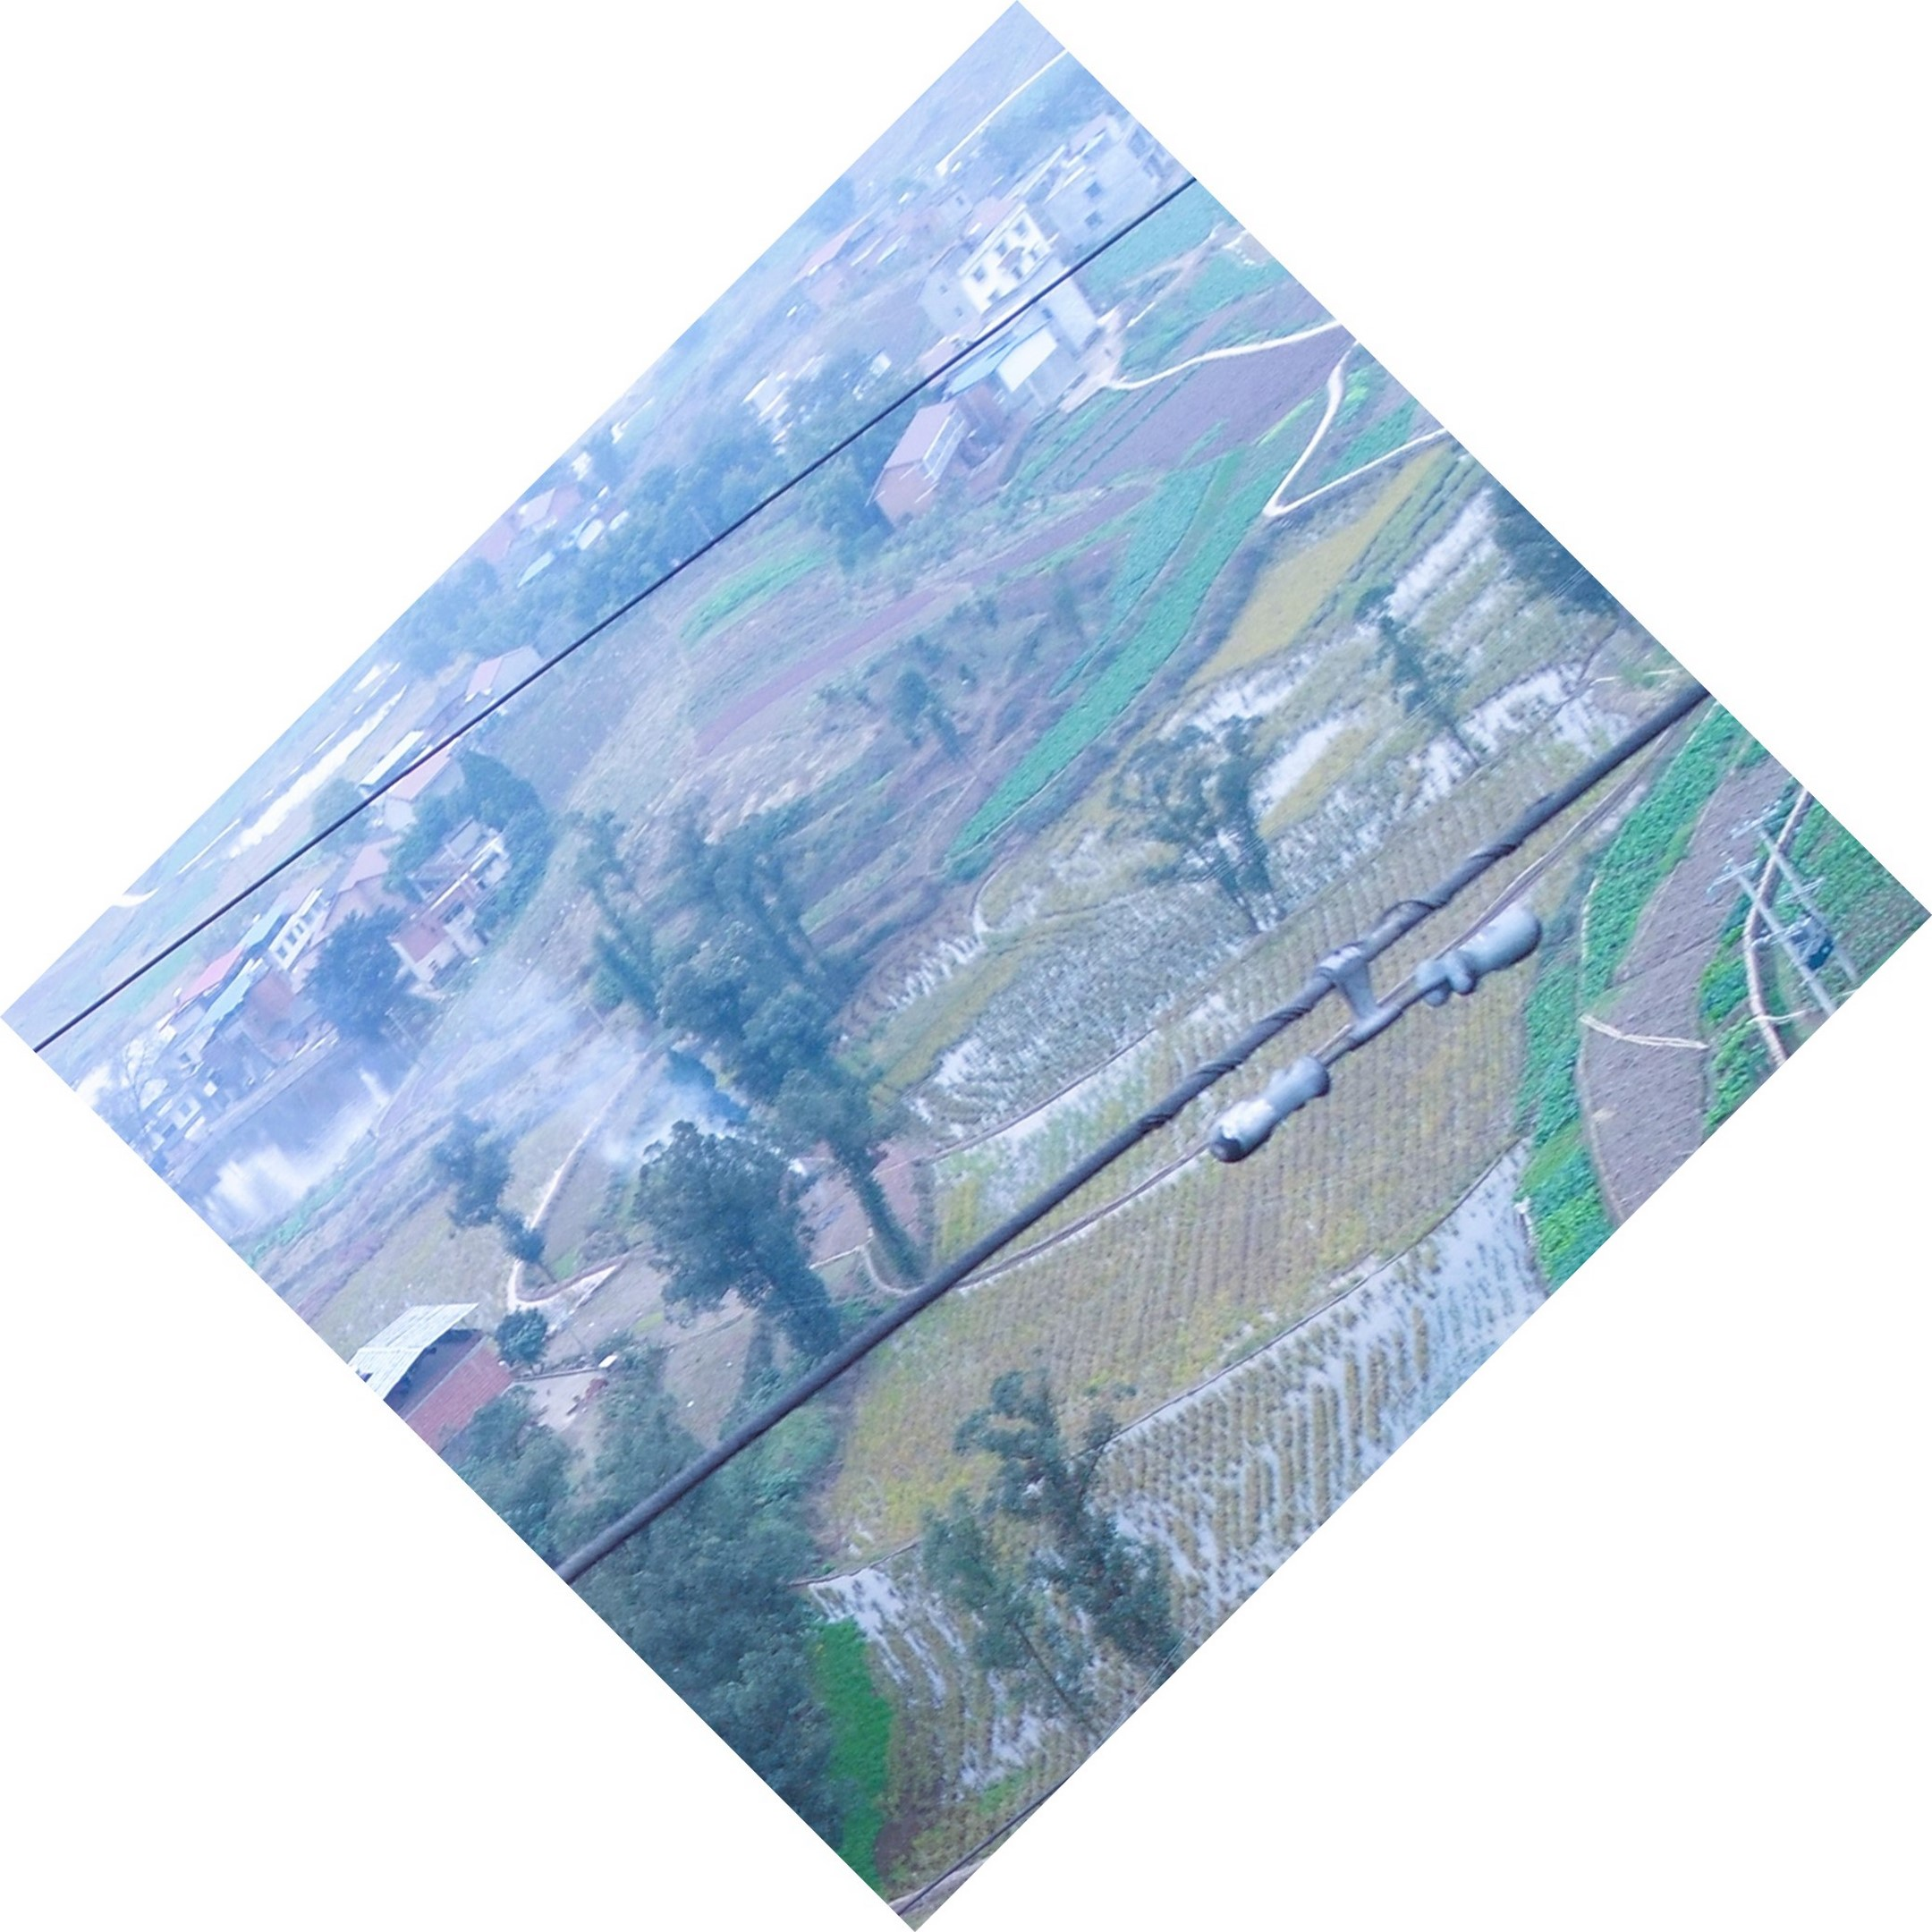Shockproof hammer: (1168, 879, 1589, 1178)
